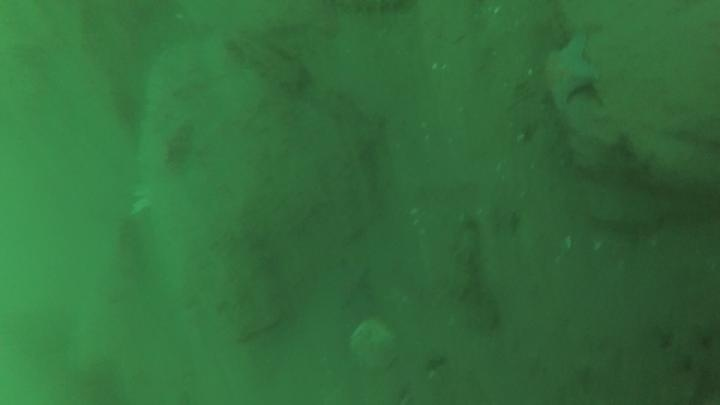holothurian: (448, 217, 506, 336), (224, 27, 313, 97)
starfish: (538, 30, 602, 111)
